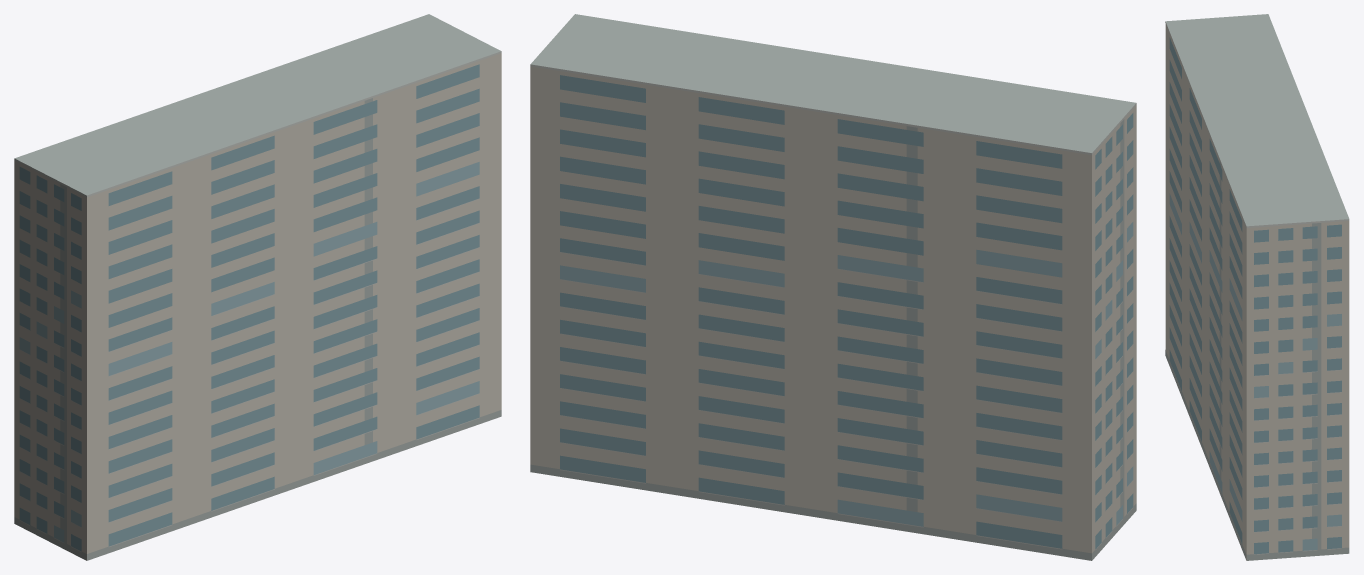
File: residential-f1a0106d-de8b-4fa1-9def-0204f27d2402.glb
The picture shows the model from 3 angles, left to right: view 1: azimuth 30°, elevation 25°; view 2: azimuth 150°, elevation 25°; view 3: azimuth 270°, elevation 25°; orthographic projection. The views are drawn at different scales.
Visible parts, largest first — view 1: residential-f1a0106d-de8b-4fa1-9def-0204f27d2402.tmp; view 2: residential-f1a0106d-de8b-4fa1-9def-0204f27d2402.tmp; view 3: residential-f1a0106d-de8b-4fa1-9def-0204f27d2402.tmp.
Boxes of the visible parts, box(x1,y1,x2,y2) form: residential-f1a0106d-de8b-4fa1-9def-0204f27d2402.tmp: box(14, 14, 501, 560); residential-f1a0106d-de8b-4fa1-9def-0204f27d2402.tmp: box(530, 14, 1136, 560); residential-f1a0106d-de8b-4fa1-9def-0204f27d2402.tmp: box(1165, 14, 1349, 560).
Size of the model in its own units: 62.28 by 45.75 by 22.81.
